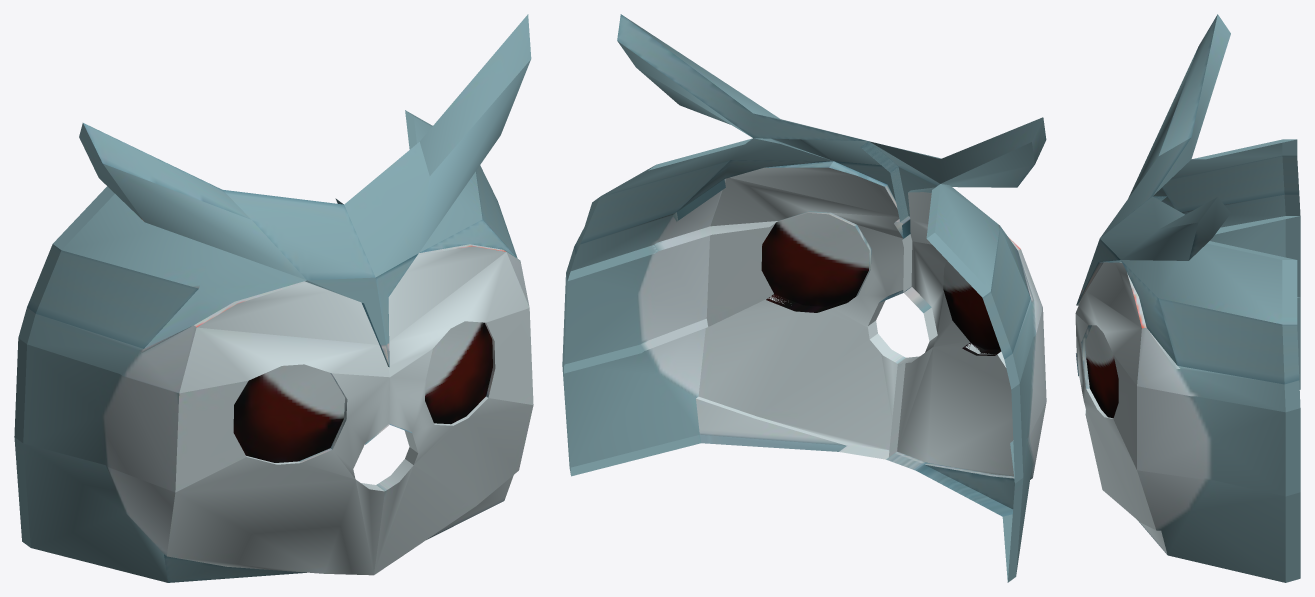
Rendered from Owl_Boss_Mask.fbx.
3 renders of one model, left to right at view 1: azimuth 30°, elevation 25°; view 2: azimuth 150°, elevation 25°; view 3: azimuth 270°, elevation 25°, orthographic. The views are drawn at different scales.
Visible parts, largest first — view 1: Owl Boss Mask; view 2: Owl Boss Mask; view 3: Owl Boss Mask.
Boxes of the visible parts, x1,y1,x2,y2 form: Owl Boss Mask: (14,14,533,582); Owl Boss Mask: (562,14,1046,582); Owl Boss Mask: (1075,14,1300,582).
Size of the model in its own units: 43.14 by 38.77 by 20.56.
1 material, 1 textured.
